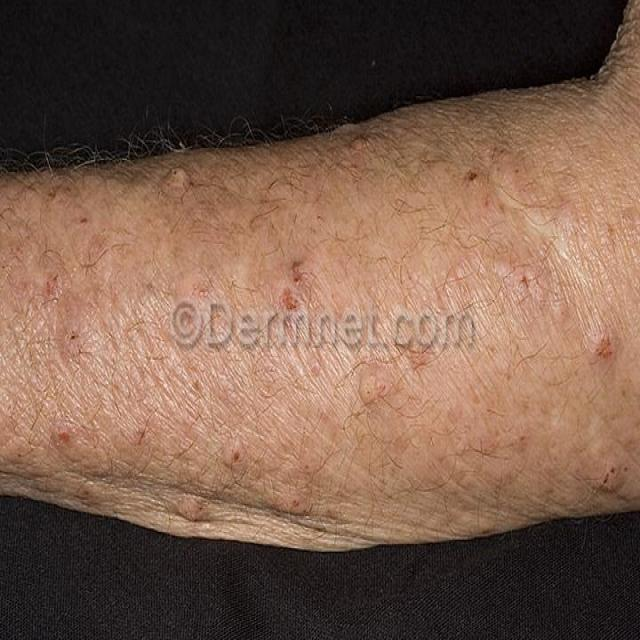Eczema: (26, 173, 614, 521)
